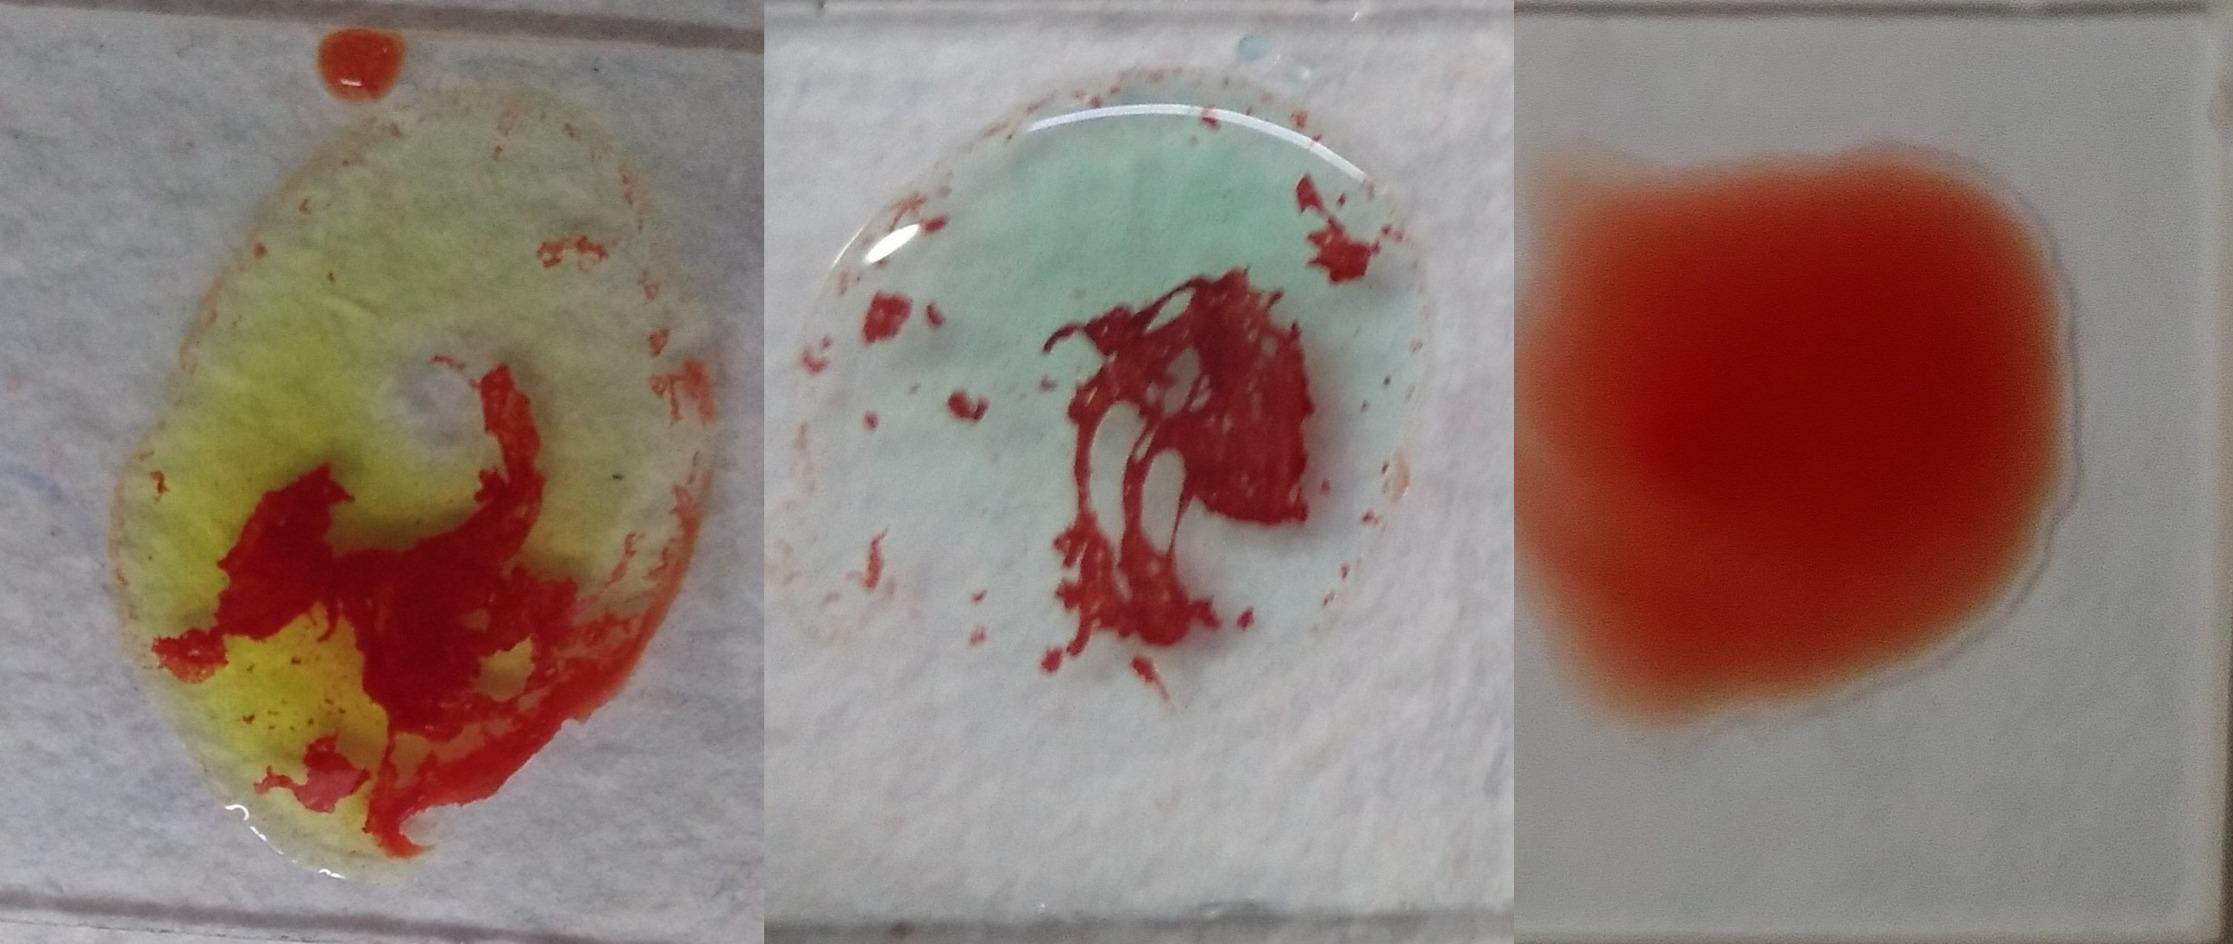A: (816, 74, 1435, 712)
B: (132, 100, 716, 846)
